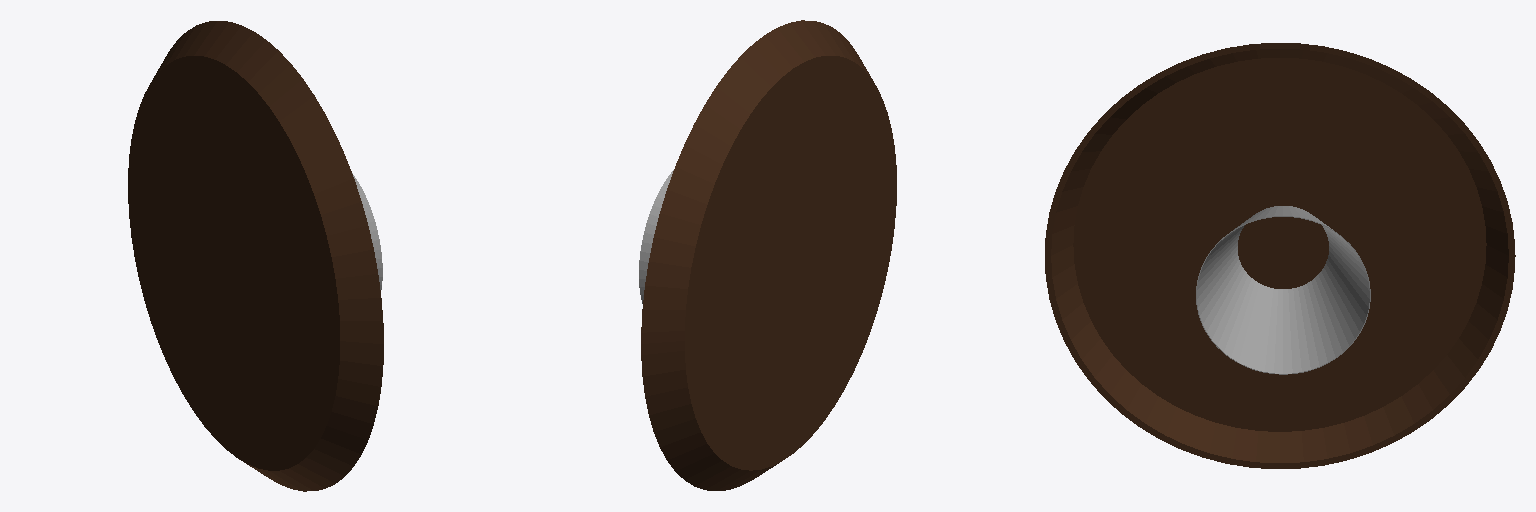
The robot description file, URDF, robot "gen3_robotiq_2f_85":
<?xml version="1.0" ?>
<!-- =================================================================================== -->
<!-- |    This document was autogenerated by xacro from gen3_robotiq_2f_85.xacro       | -->
<!-- |    EDITING THIS FILE BY HAND IS NOT RECOMMENDED                                 | -->
<!-- =================================================================================== -->
<robot name="gen3_robotiq_2f_85">
  <!-- Run the macros -->
  <link name="base">
    <inertial>
      <origin rpy="0 0 0" xyz="-0.000648 -0.000166 0.084487"/>
      <mass value="1.697"/>
      <inertia ixx="0.004622" ixy="9E-06" ixz="6E-05" iyy="0.004495" iyz="9E-06" izz="0.002079"/>
    </inertial>
    <visual>
      <origin rpy="0 0 0" xyz="0 0 0"/>
      <geometry>
        <mesh filename="meshes/base_link.obj"/>
      </geometry>
      <material name="">
        <color rgba="0.64 0.64 0.64 1"/>
      </material>
    </visual>
    <collision>
      <origin rpy="0 0 0" xyz="0 0 0"/>
      <geometry>
        <mesh filename="meshes/base_link.obj"/>
      </geometry>
    </collision>
  </link>

  <link name="shoulder_link">
    <inertial>
      <origin rpy="0 0 0" xyz="-2.3E-05 -0.010364 -0.07336"/>
      <mass value="1.3773"/>
      <inertia ixx="0.00457" ixy="1E-06" ixz="2E-06" iyy="0.004831" iyz="0.000448" izz="0.001409"/>
    </inertial>
    <visual>
      <origin rpy="0 0 0" xyz="0 0 0"/>
      <geometry>
        <mesh filename="meshes/shoulder_link.obj"/>
      </geometry>
      <material name="">
        <color rgba="0.64 0.64 0.64 1"/>
      </material>
    </visual>
    <collision>
      <origin rpy="0 0 0" xyz="0 0 0"/>
      <geometry>
        <mesh filename="meshes/shoulder_link.obj"/>
      </geometry>
    </collision>
  </link>

  <joint name="joint_1" type="continuous">
    <origin rpy="3.1416 2.7629E-18 -4.9305E-36" xyz="0 0 0.15643"/>
    <parent link="base"/>
    <child link="shoulder_link"/>
    <axis xyz="0 0 1"/>
    <limit effort="39" velocity="1.3963"/>
  </joint>

  <link name="half_arm_1_link">
    <inertial>
      <origin rpy="0 0 0" xyz="-4.4E-05 -0.09958 -0.013278"/>
      <mass value="1.1636"/>
      <inertia ixx="0.011088" ixy="5E-06" ixz="0" iyy="0.001072" iyz="-0.000691" izz="0.011255"/>
    </inertial>
    <visual>
      <origin rpy="0 0 0" xyz="0 0 0"/>
      <geometry>
        <mesh filename="meshes/half_arm_1_link.obj"/>
      </geometry>
      <material name="">
        <color rgba="0.64 0.64 0.64 1"/>
      </material>
    </visual>
    <collision>
      <origin rpy="0 0 0" xyz="0 0 0"/>
      <geometry>
        <mesh filename="meshes/half_arm_1_link.obj"/>
      </geometry>
    </collision>
  </link>

  <joint name="joint_2" type="revolute">
    <origin rpy="1.5708 2.1343E-17 -1.1102E-16" xyz="0 0.005375 -0.12838"/>
    <parent link="shoulder_link"/>
    <child link="half_arm_1_link"/>
    <axis xyz="0 0 1"/>
    <limit effort="39" lower="-2.41" upper="2.41" velocity="1.3963"/>
  </joint>

  <link name="half_arm_2_link">
    <inertial>
      <origin rpy="0 0 0" xyz="-4.4E-05 -0.006641 -0.117892"/>
      <mass value="1.1636"/>
      <inertia ixx="0.010932" ixy="0" ixz="-7E-06" iyy="0.011127" iyz="0.000606" izz="0.001043"/>
    </inertial>
    <visual>
      <origin rpy="0 0 0" xyz="0 0 0"/>
      <geometry>
        <mesh filename="meshes/half_arm_2_link.obj"/>
      </geometry>
      <material name="">
        <color rgba="0.64 0.64 0.64 1"/>
      </material>
    </visual>
    <collision>
      <origin rpy="0 0 0" xyz="0 0 0"/>
      <geometry>
        <mesh filename="meshes/half_arm_2_link.obj"/>
      </geometry>
    </collision>
  </link>

  <joint name="joint_3" type="continuous">
    <origin rpy="-1.5708 1.2326E-32 -2.9122E-16" xyz="0 -0.21038 -0.006375"/>
    <parent link="half_arm_1_link"/>
    <child link="half_arm_2_link"/>
    <axis xyz="0 0 1"/>
    <limit effort="39" velocity="1.3963"/>
  </joint>

  <link name="forearm_link">
    <inertial>
      <origin rpy="0 0 0" xyz="-1.8E-05 -0.075478 -0.015006"/>
      <mass value="0.9302"/>
      <inertia ixx="0.008147" ixy="-1E-06" ixz="0" iyy="0.000631" iyz="-0.0005" izz="0.008316"/>
    </inertial>
    <visual>
      <origin rpy="0 0 0" xyz="0 0 0"/>
      <geometry>
        <mesh filename="meshes/forearm_link.obj"/>
      </geometry>
      <material name="">
        <color rgba="0.64 0.64 0.64 1"/>
      </material>
    </visual>
    <collision>
      <origin rpy="0 0 0" xyz="0 0 0"/>
      <geometry>
        <mesh filename="meshes/forearm_link.obj"/>
      </geometry>
    </collision>
  </link>

  <joint name="joint_4" type="revolute">
    <origin rpy="1.5708 -6.6954E-17 -1.6653E-16" xyz="0 0.006375 -0.21038"/>
    <parent link="half_arm_2_link"/>
    <child link="forearm_link"/>
    <axis xyz="0 0 1"/>
    <limit effort="39" lower="-2.66" upper="2.66" velocity="1.3963"/>
  </joint>

  <link name="spherical_wrist_1_link">
    <inertial>
      <origin rpy="0 0 0" xyz="1E-06 -0.009432 -0.063883"/>
      <mass value="0.6781"/>
      <inertia ixx="0.001596" ixy="0" ixz="0" iyy="0.001607" iyz="0.000256" izz="0.000399"/>
    </inertial>
    <visual>
      <origin rpy="0 0 0" xyz="0 0 0"/>
      <geometry>
        <mesh filename="meshes/spherical_wrist_1_link.obj"/>
      </geometry>
      <material name="">
        <color rgba="0.64 0.64 0.64 1"/>
      </material>
    </visual>
    <collision>
      <origin rpy="0 0 0" xyz="0 0 0"/>
      <geometry>
        <mesh filename="meshes/spherical_wrist_1_link.obj"/>
      </geometry>
    </collision>
  </link>

  <joint name="joint_5" type="continuous">
    <origin rpy="-1.5708 2.2204E-16 -6.373E-17" xyz="0 -0.20843 -0.006375"/>
    <parent link="forearm_link"/>
    <child link="spherical_wrist_1_link"/>
    <axis xyz="0 0 1"/>
    <limit effort="9" velocity="1.2218"/>
  </joint>

  <link name="spherical_wrist_2_link">
    <inertial>
      <origin rpy="0 0 0" xyz="1E-06 -0.045483 -0.00965"/>
      <mass value="0.6781"/>
      <inertia ixx="0.001641" ixy="0" ixz="0" iyy="0.00041" iyz="-0.000278" izz="0.001641"/>
    </inertial>
    <visual>
      <origin rpy="0 0 0" xyz="0 0 0"/>
      <geometry>
        <mesh filename="meshes/spherical_wrist_2_link.obj"/>
      </geometry>
      <material name="">
        <color rgba="0.64 0.64 0.64 1"/>
      </material>
    </visual>
    <collision>
      <origin rpy="0 0 0" xyz="0 0 0"/>
      <geometry>
        <mesh filename="meshes/spherical_wrist_2_link.obj"/>
      </geometry>
    </collision>
  </link>

  <joint name="joint_6" type="revolute">
    <origin rpy="1.5708 9.2076E-28 -8.2157E-15" xyz="0 0.00017505 -0.10593"/>
    <parent link="spherical_wrist_1_link"/>
    <child link="spherical_wrist_2_link"/>
    <axis xyz="0 0 1"/>
    <limit effort="9" lower="-2.23" upper="2.23" velocity="1.2218"/>
  </joint>

  <link name="bracelet_link">
    <inertial>
      <!-- This is different from the documentation -->
      <origin rpy="0 0 0" xyz="0.000281 0.011402 -0.029798"/>
      <mass value="0.5"/>
      <inertia ixx="0.000587" ixy="3E-06" ixz="3E-06" iyy="0.000369" iyz="-0.000118" izz="0.000609"/>
    </inertial>
    <visual>
      <origin rpy="0 0 0" xyz="0 0 0"/>
      <geometry>
        <mesh filename="meshes/bracelet_with_vision_link.obj"/>
      </geometry>
      <material name="">
        <color rgba="0.64 0.64 0.64 1"/>
      </material>
    </visual>
    <collision>
      <origin rpy="0 0 0" xyz="0 0 0"/>
      <geometry>
        <mesh filename="meshes/bracelet_with_vision_link.obj"/>
      </geometry>
    </collision>
  </link>

  <joint name="joint_7" type="continuous">
    <origin rpy="-1.5708 -5.5511E-17 9.6396E-17" xyz="0 -0.10593 -0.00017505"/>
    <parent link="spherical_wrist_2_link"/>
    <child link="bracelet_link"/>
    <axis xyz="0 0 1"/>
    <limit effort="9" velocity="1.2218"/>
  </joint>

  <!-- gripper code -->


  <joint name="gripper_base_joint" type="fixed">
    <!--
    <parent link="end_effector_link"/>
  -->
    <parent link="bracelet_link"/>
    <child link="gripper_base"/>
    <origin rpy="1.5707 0.0 0.0" xyz="0.0 0.0 -0.0615250000000001"/>
    <!-- 1.57 -->
  </joint>

  <link name="gripper_base">
    <inertial>
      <origin rpy="0 0 0" xyz="6.91E-06 4.4117E-06 0.031656"/>
      <mass value="0.60831"/>
      <inertia ixx="0.0004596" ixy="1.5559E-09" ixz="1.397E-07" iyy="0.0005181" iyz="-1.0325E-11" izz="0.00036051"/>
    </inertial>
    <visual>
      <origin rpy="0 0 0" xyz="0 0 0"/>
      <geometry>
        <mesh filename="meshes/base_of_gripper.obj"/>
      </geometry>
      <material name="">
        <color rgba="0 0 0 0"/>
      </material>
    </visual>
    <collision>
      <origin rpy="0 0 0" xyz="0 0 0"/>
      <geometry>
        <mesh filename="meshes/base_of_gripper.obj"/>
      </geometry>
    </collision>
  </link>

  <!-- tray and object code -->

  <joint name="waiter_tray_joint" type="fixed">
     <origin rpy="0 1.5707 0" xyz="0 -0.14948 0" /> <!-- offset from base of gripper -->
     <parent link="gripper_base" />
     <child link="waiter_tray_link" />
  </joint>

  <link name="waiter_tray_link"> <!-- updated for circular tray -->
    <inertial>
      <origin rpy="0 0 0" xyz="0 -0.144 0" /> <!-- updated for hardware -->
      <mass value="0.354" /> <!-- updated for hardware -->
      <inertia ixx="0.00001806328" ixy="0" ixz="0" iyy="0.00001806328" iyz="0" izz="0.00003596782" /> <!-- updated for hardware -->
    </inertial>
    <visual>
      <origin rpy="0 0 0" xyz="0 0 0"/>
      <geometry>
        <mesh filename="meshes/circ_tray_hardware_shift_scale_v4.obj" /> <!-- need to be updated -->
      </geometry>
      <material name="">
      <color rgba="0.3059 0.2078 0.1412 1" />
      </material>
    </visual>
    <collision>
      <origin rpy="0 0 0" xyz="0 0 0"/>
      <geometry>
        <mesh filename="meshes/circ_tray_hardware_shift_scale_v4.obj" /> <!-- need to be updated -->
      </geometry>
    </collision>
  </link>

  <!-- Joint 10 -->
  <joint name="contact_joint" type="fixed">
     <origin rpy="0 0 0" xyz="0 -0.106 0.002" /> <!-- needs to be updated --> 
     <parent link="waiter_tray_link" />
     <child link="object_link" />
  </joint>

  <link name="object_link">
    <inertial>
      <origin rpy="0 0 0" xyz="0 0 0.0291" /> <!-- updated for hardware -->
      <mass value="0.592" /> <!-- updated for hardware -->
      <inertia ixx="0.00033005074" ixy="0.0" ixz="0.0" iyy="0.00033005074" iyz="0.0" izz="0.00042925501" /> <!-- updated for hardware -->
    </inertial>
    <visual>
      <origin rpy="0 0 0" xyz="0 0 0" />
      <geometry>
        <mesh filename="meshes/cup_hardware_shifted_scaled_rotated.obj" /> <!-- updated for hardware -->
          <!-- scale="0.001 0.001 0.001" -->
      </geometry>
      <material name="">
        <color rgba="0.64 0.64 0.64 1" />
      </material>
    </visual>
    <collision>
      <origin rpy="0 0 0" xyz="0 0 0" />
      <geometry>
        <mesh filename="meshes/cup_hardware_shifted_scaled_rotated.obj" /> <!-- updated for hardware -->
      </geometry>
    </collision>
  </link>


</robot>

--- Facts derived from the render (not from the file) ---
The picture shows the robot from 3 angles, left to right: view 1: azimuth 30°, elevation 25°; view 2: azimuth 150°, elevation 25°; view 3: azimuth 270°, elevation 25°; orthographic projection.
Model gen3_robotiq_2f_85 with 11 links and 10 joints (3 revolute, 4 continuous, 3 fixed), rooted at base, posed every joint at zero.
Visible links, largest first — view 1: waiter_tray_link, object_link; view 2: waiter_tray_link, object_link; view 3: waiter_tray_link, object_link.
Boxes of the visible links, bbox=[...] form: waiter_tray_link: bbox=[128, 21, 383, 491]; object_link: bbox=[352, 173, 382, 289]; waiter_tray_link: bbox=[641, 20, 896, 490]; object_link: bbox=[639, 170, 673, 303]; waiter_tray_link: bbox=[1045, 43, 1515, 468]; object_link: bbox=[1196, 206, 1370, 374].
Size in the robot's own frame: 0.072 by 0.285 by 0.2849 metres.
Meshes: 11 distinct files referenced, 2 mesh visuals loaded (2 OBJ); not drawn: 9 (reference not matched to a file when rendering).